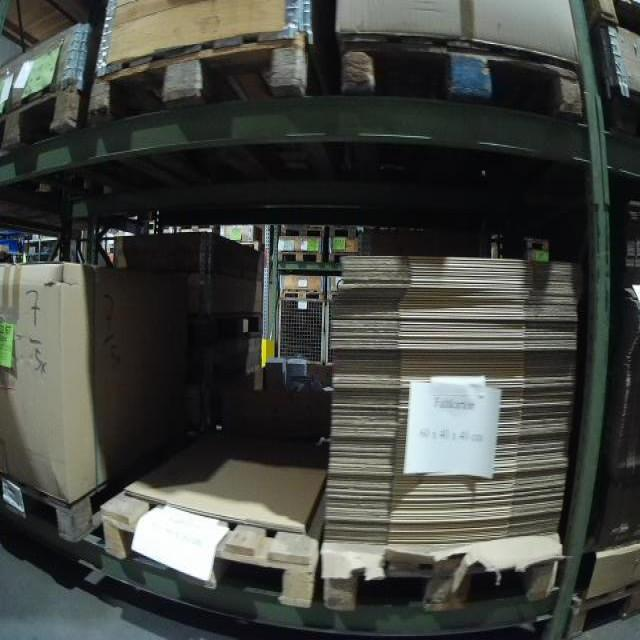pallet: (103, 486, 322, 611), (338, 31, 585, 125), (87, 28, 307, 126), (322, 555, 559, 612), (1, 474, 102, 546), (1, 84, 83, 154), (278, 220, 327, 239), (276, 250, 323, 265), (279, 288, 325, 303), (327, 224, 363, 238)
stillage: (276, 290, 325, 370), (324, 302, 335, 372)
